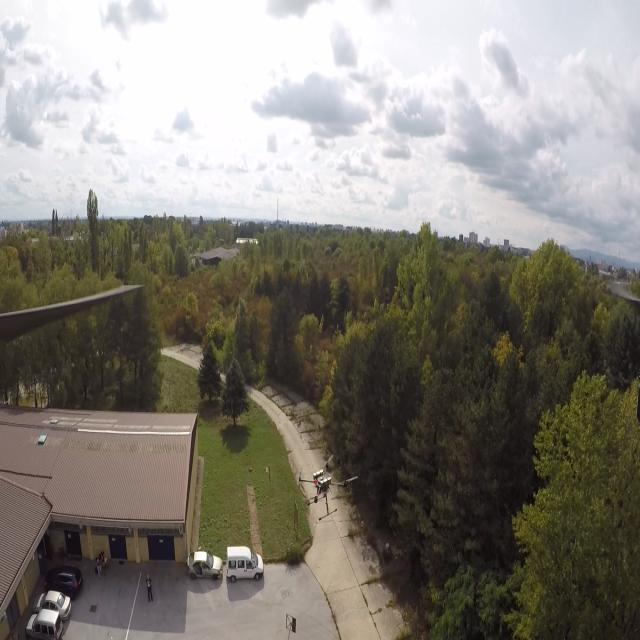UAV: (296, 451, 359, 521)
